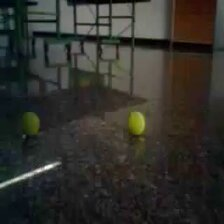tennis: (21, 112, 41, 136), (127, 111, 146, 134)
